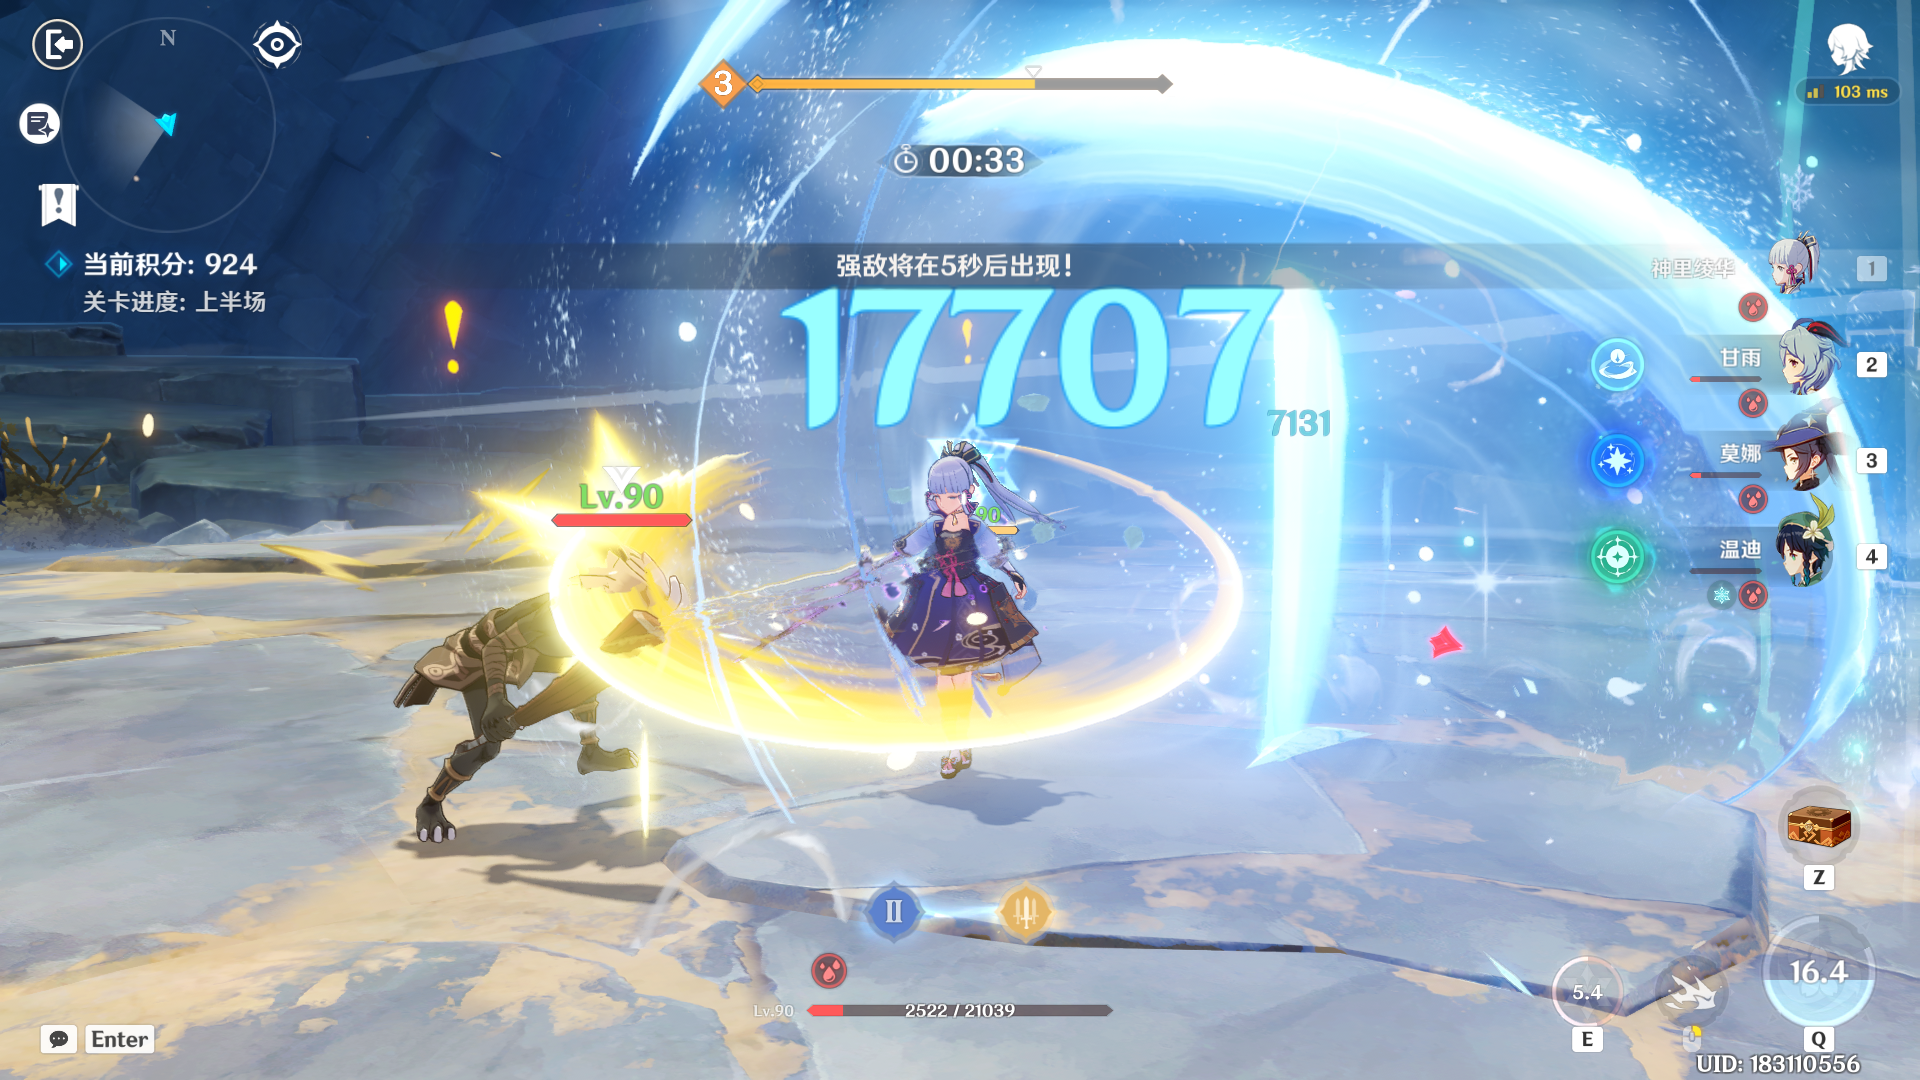character: (357, 514, 695, 873), (800, 407, 1069, 820)
